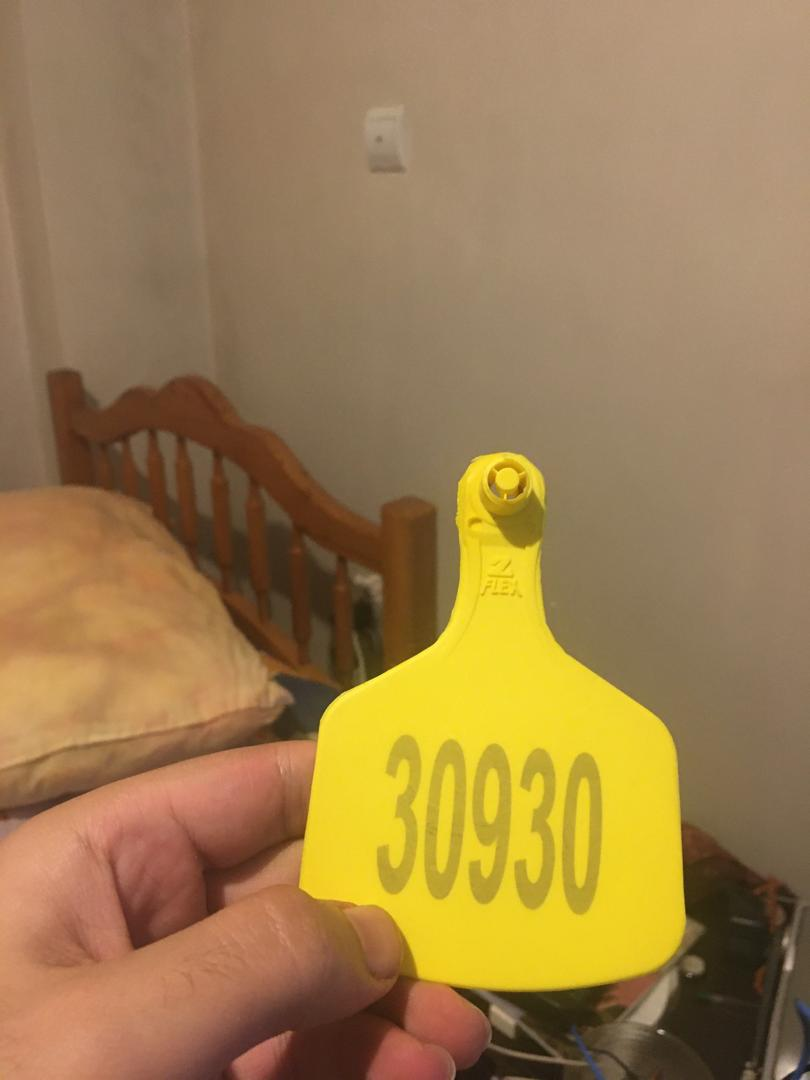digit: (379, 733, 604, 909)
